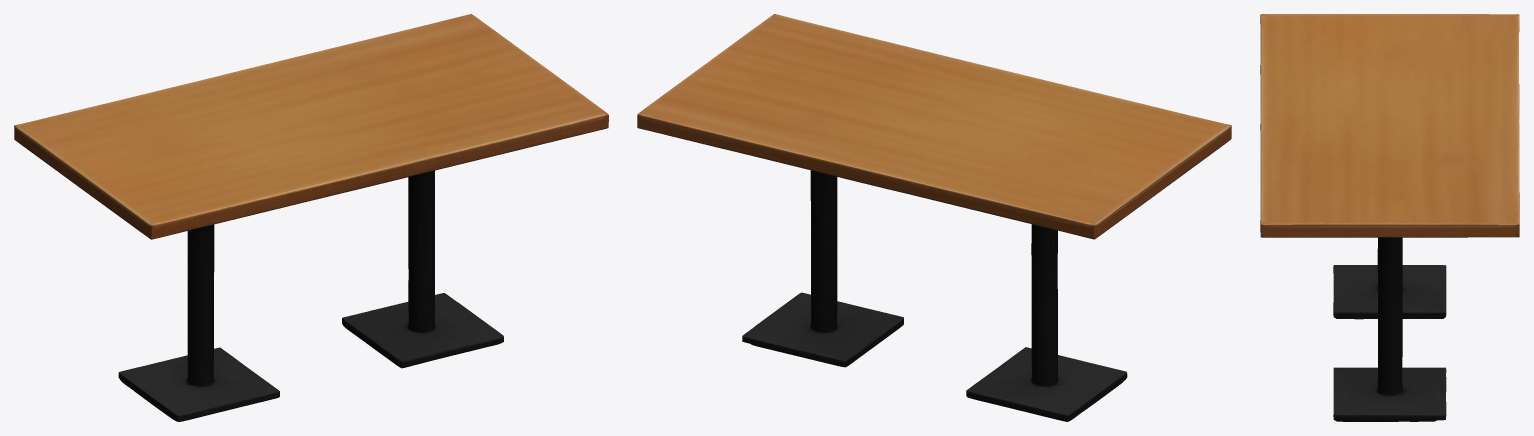
File: table_wood_rect.glb
3 views of the same model, side by side, from view 1: azimuth 30°, elevation 25°; view 2: azimuth 150°, elevation 25°; view 3: azimuth 270°, elevation 25° (orthographic). The views are drawn at different scales.
Visible parts, largest first — view 1: geometry_0; view 2: geometry_0; view 3: geometry_0.
Part boxes in pixels (x1,y1,x2,y2): geometry_0: (14,14,608,421); geometry_0: (637,14,1231,421); geometry_0: (1260,14,1519,421).
Bounding box in the file's own units: 1 × 0.5079 × 0.5211.
Materials: 1 (1 with a texture image).
